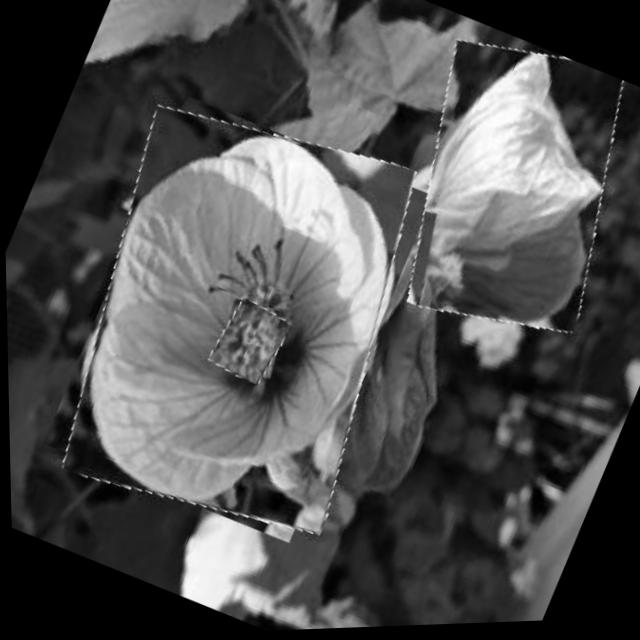Flower: (20, 78, 455, 568), (364, 20, 640, 362), (206, 297, 292, 392)
